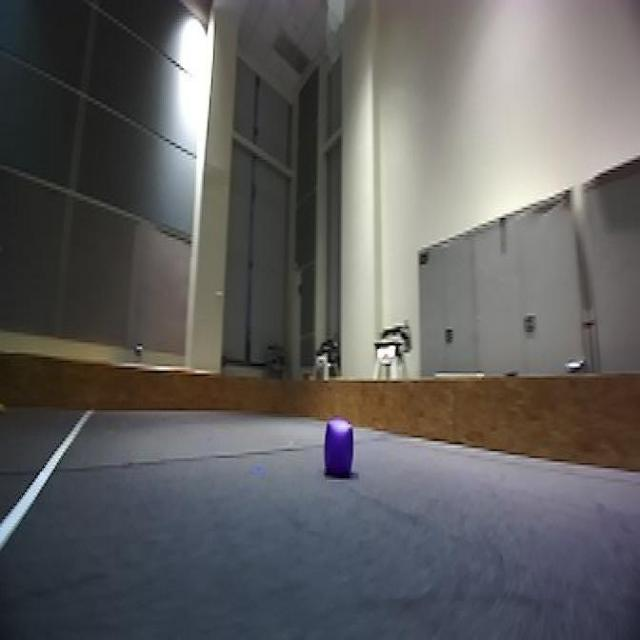frc_cube: (320, 417, 357, 480)
